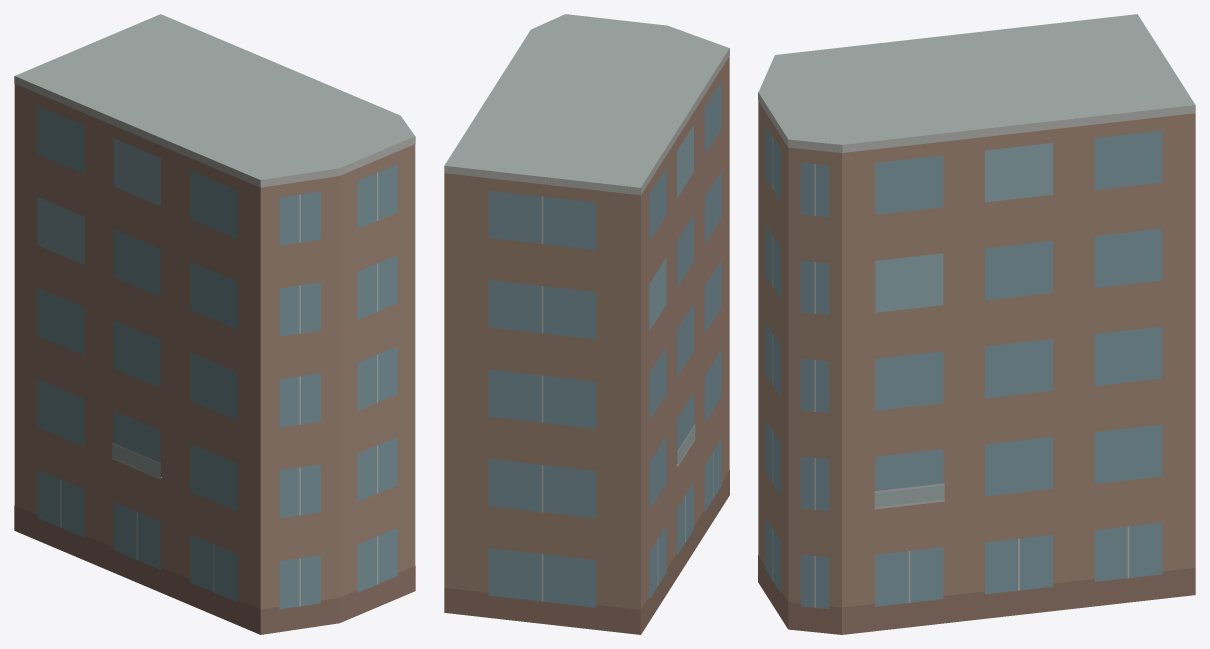
The model's file is survey-upis-32654575.glb.
3 views of the same model, side by side, from view 1: azimuth 30°, elevation 25°; view 2: azimuth 150°, elevation 25°; view 3: azimuth 270°, elevation 25° (orthographic). The views are drawn at different scales.
Visible parts, largest first — view 1: survey-upis-32654575.tmp; view 2: survey-upis-32654575.tmp; view 3: survey-upis-32654575.tmp.
Boxes of the visible parts, x1=… form: survey-upis-32654575.tmp: x1=14, y1=14, x2=415, y2=634; survey-upis-32654575.tmp: x1=444, y1=14, x2=729, y2=634; survey-upis-32654575.tmp: x1=758, y1=14, x2=1195, y2=634.
Size of the model in its own units: 8.44 by 14.7 by 11.9.
